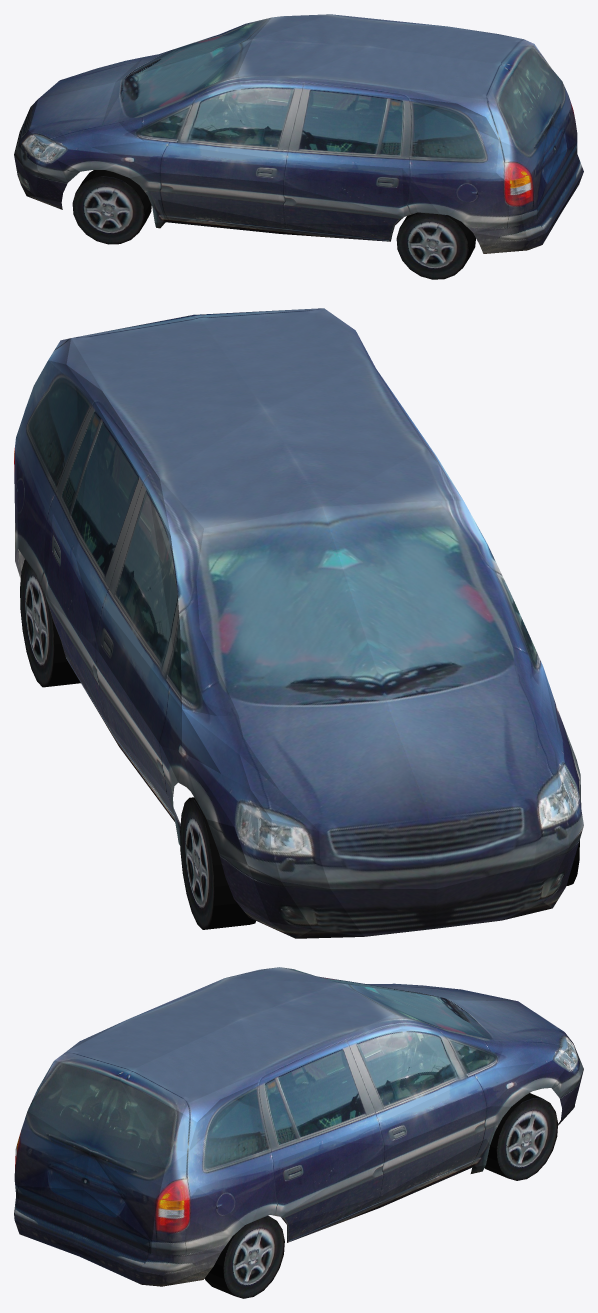
File: ANIM_CARS-1080.FBX
The picture shows the model from 3 angles, top to bottom: view 1: azimuth 30°, elevation 25°; view 2: azimuth 150°, elevation 25°; view 3: azimuth 270°, elevation 25°; orthographic projection. The views are drawn at different scales.
Parts seen in each view (by area): view 1: model_KLB_Car_v04_Traffic_005; view 2: model_KLB_Car_v04_Traffic_005; view 3: model_KLB_Car_v04_Traffic_005.
Boxes of the visible parts, bbox=[...] form: model_KLB_Car_v04_Traffic_005: bbox=[14, 14, 583, 279]; model_KLB_Car_v04_Traffic_005: bbox=[14, 308, 583, 938]; model_KLB_Car_v04_Traffic_005: bbox=[14, 967, 583, 1298].
Size of the model in its own units: 6.61 by 2.64 by 6.54.
Materials: 2 (2 with a texture image).
